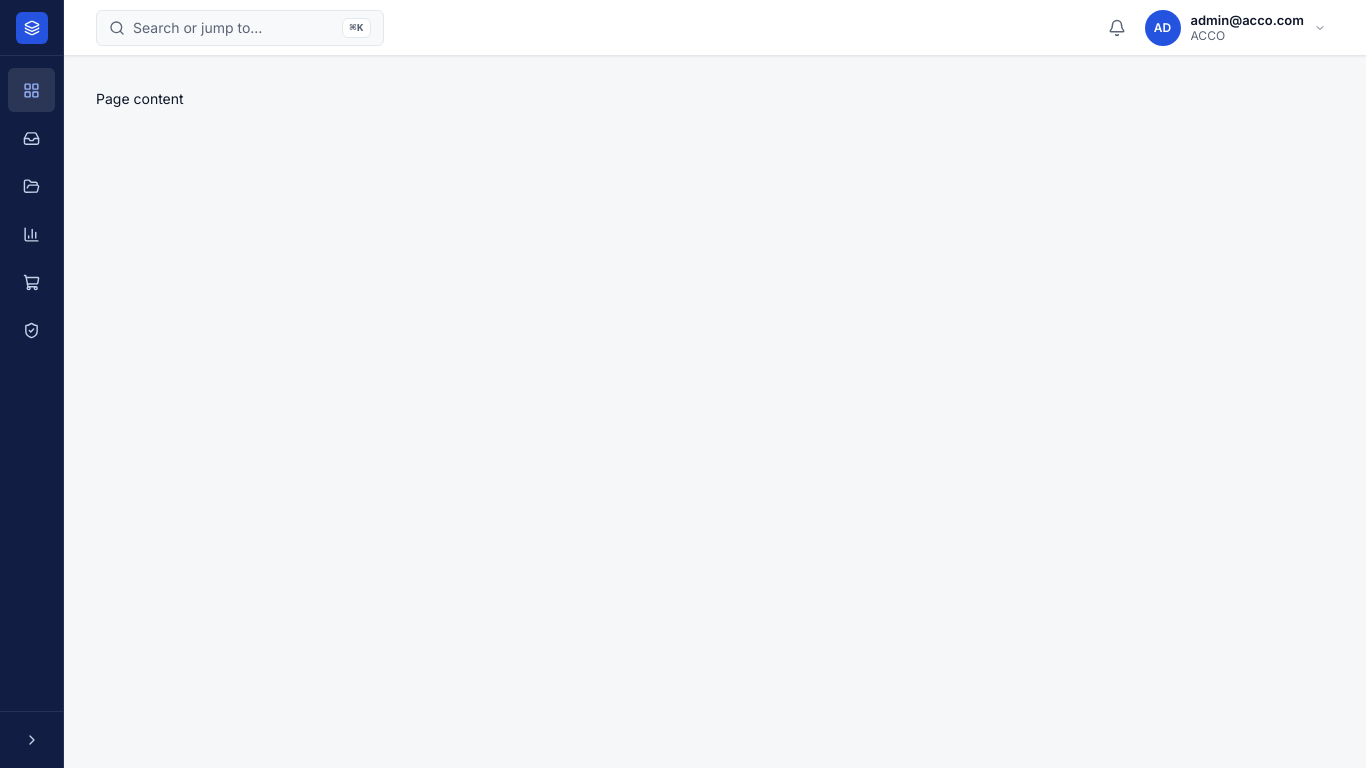
Test: AppShell — header › shows the signed-in email in the sidebar footer and in the account menu
Note: Opening the account menu also shows sign-out.
Click the button with aria-label "Account menu". click: click(1237, 28)
box: [1140,10,1334,46]
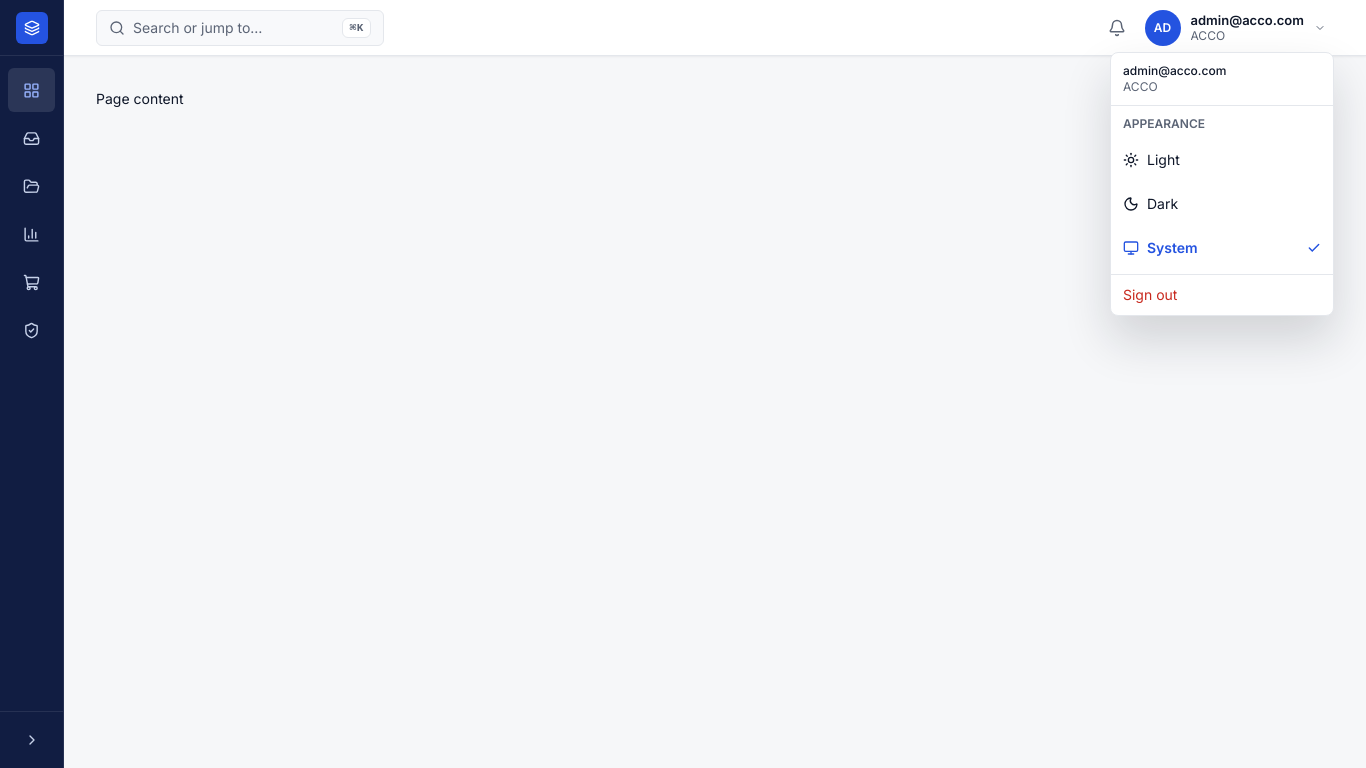
Expected: the menu item "Sign out" is shown, [1123,286,1177,303]
